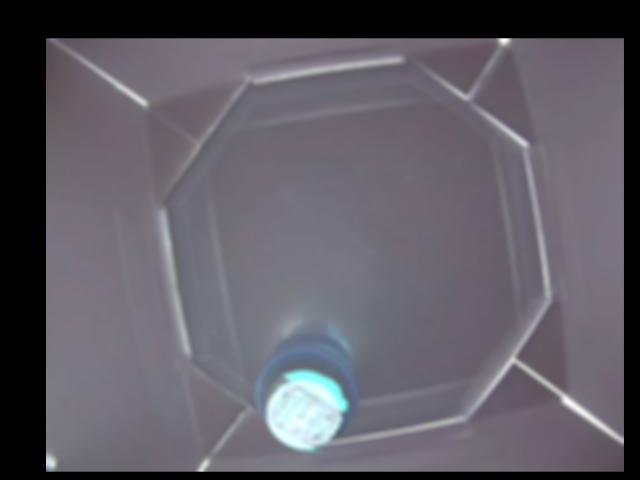Bottle: (255, 322, 355, 453)
